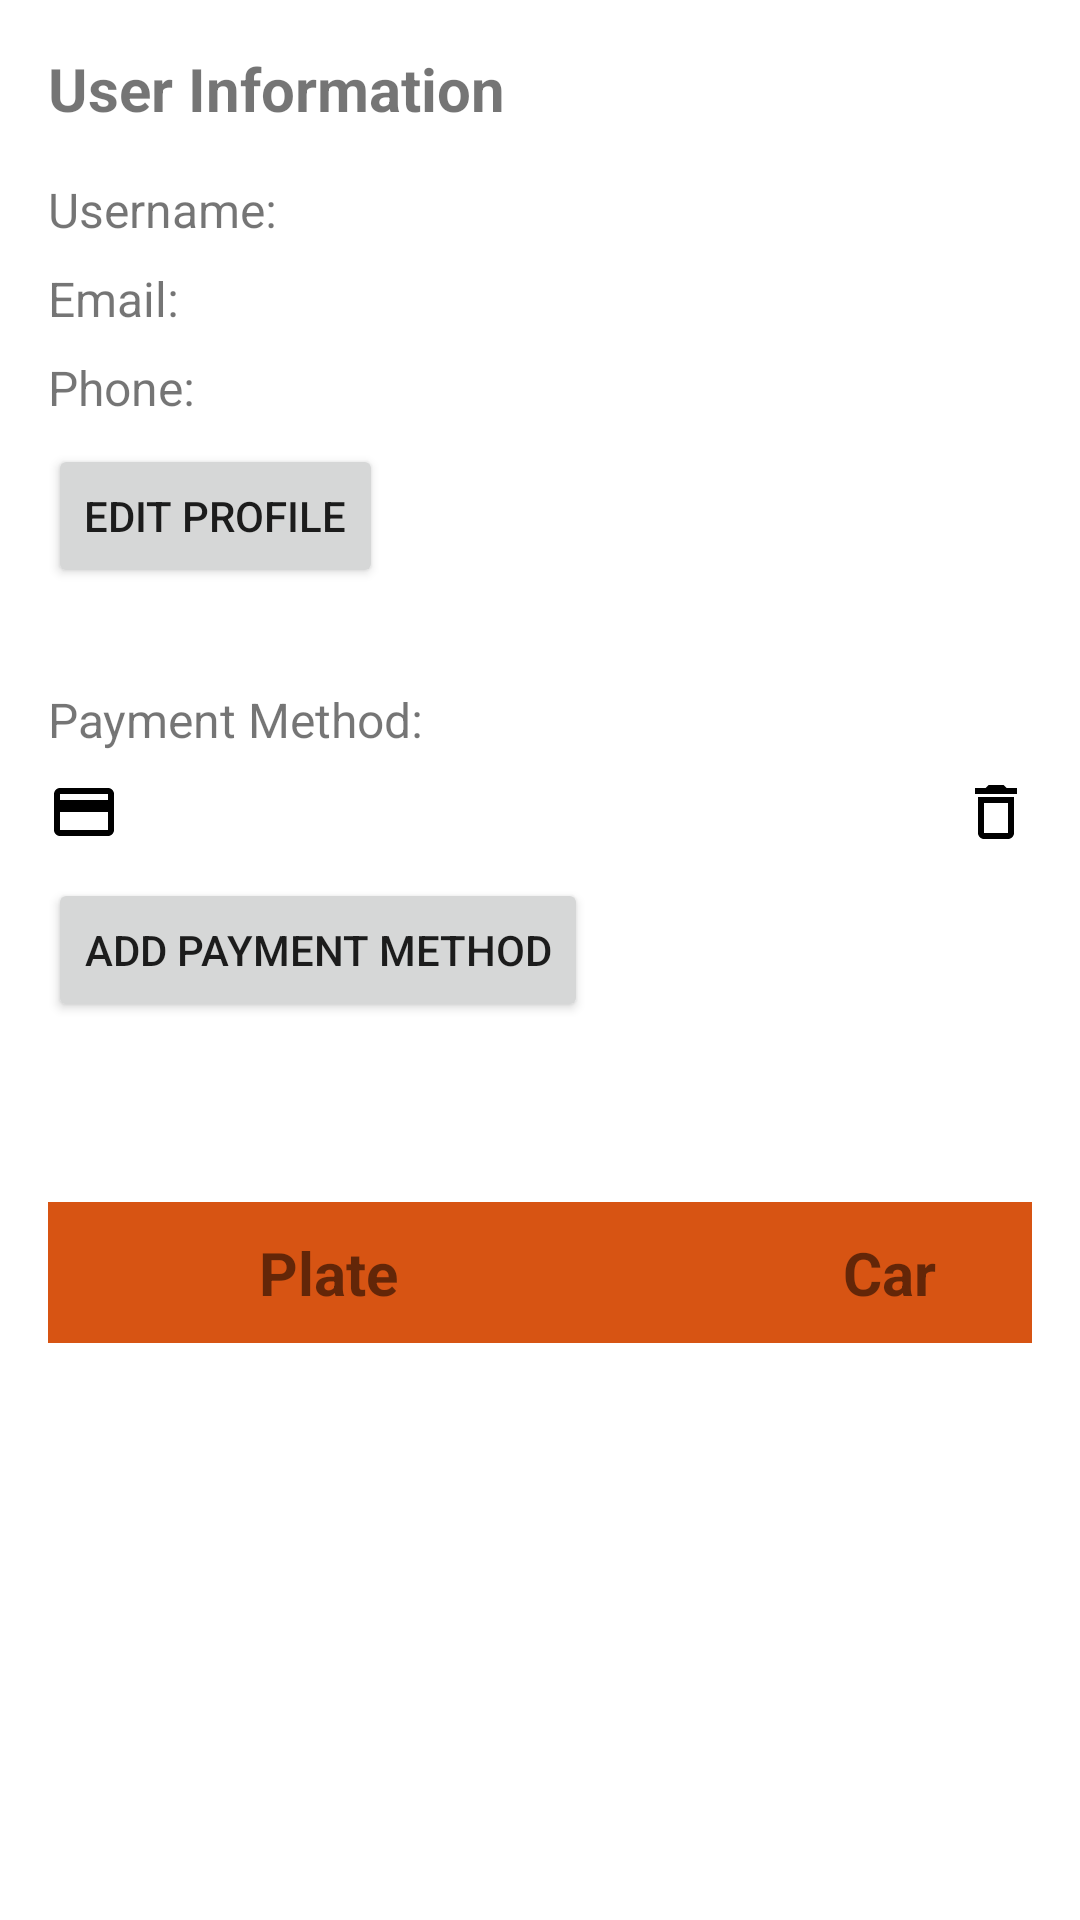

Where to tap for icons on this 1080px x 1920px app screen, as point (x, y):
delete: point (996, 812)
